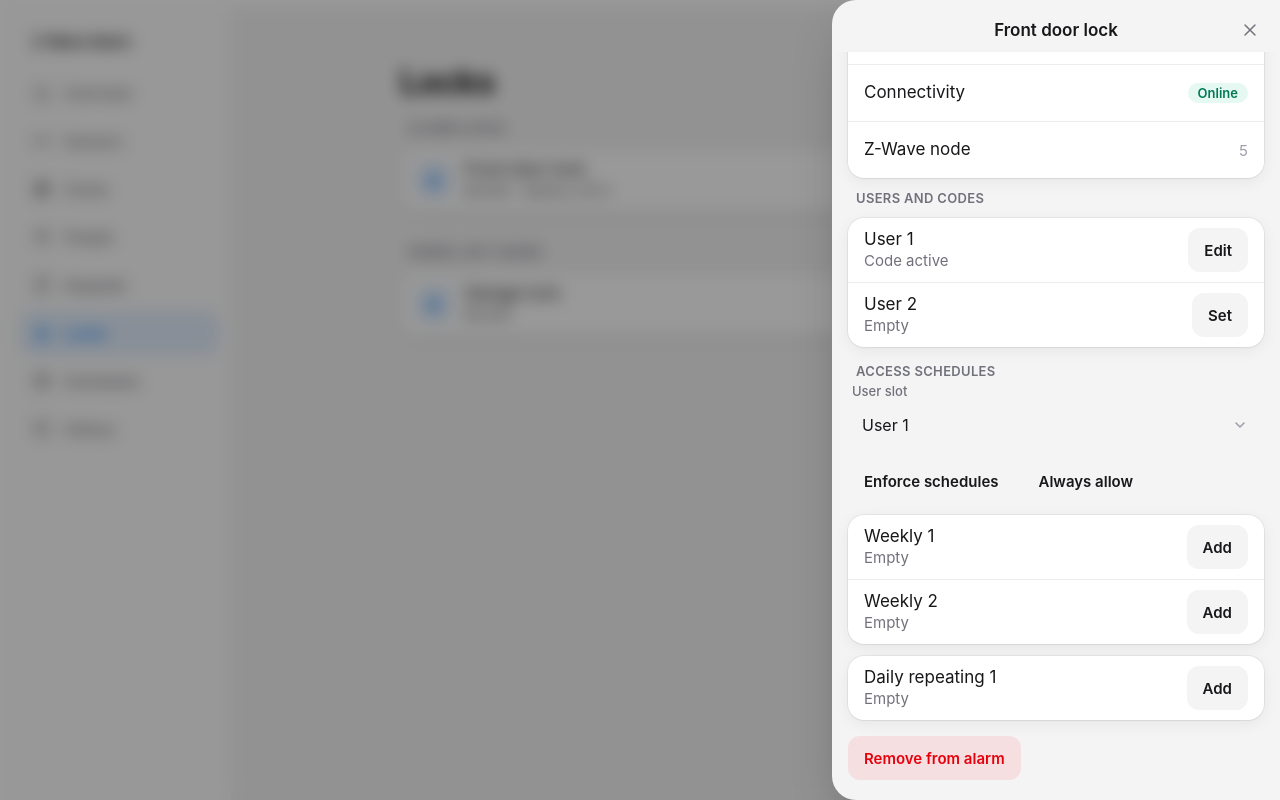
Test: locks › tells the user when the lock could not be cleared on removal
The width and height of the screenshot is (1280, 800).
(page scrolled)
Click the button "Remove from alarm" at (934, 758), box [848, 736, 1021, 780]
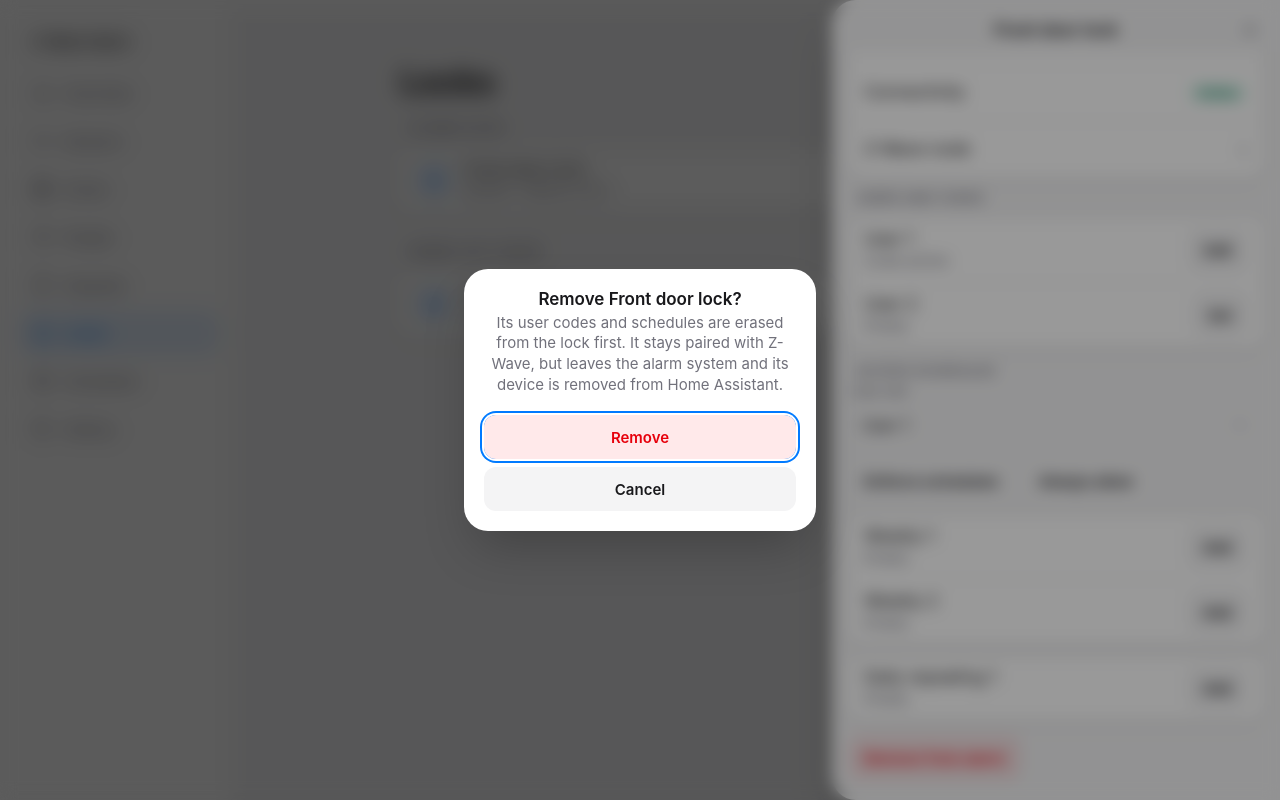
Click the button "Remove" at (640, 437), box [484, 415, 796, 459]
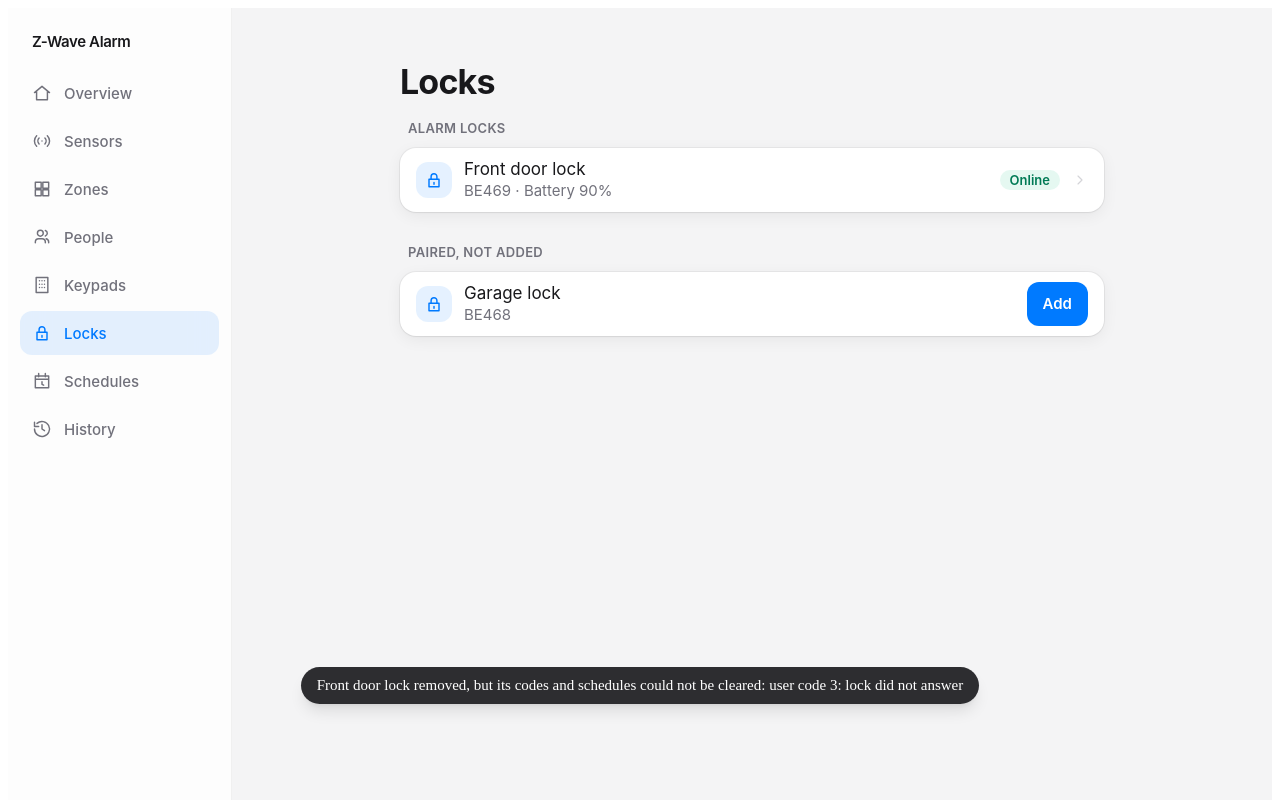
Result: the text "could not be cleared: user code 3: lock did not answer" is shown at [317, 677, 963, 693]
